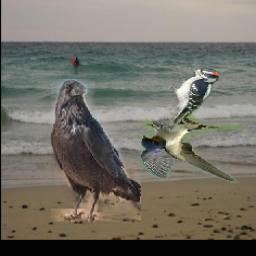Crow: (52, 80, 142, 223)
Swallow: (141, 114, 246, 184)
Woodpecker: (169, 66, 220, 124)
